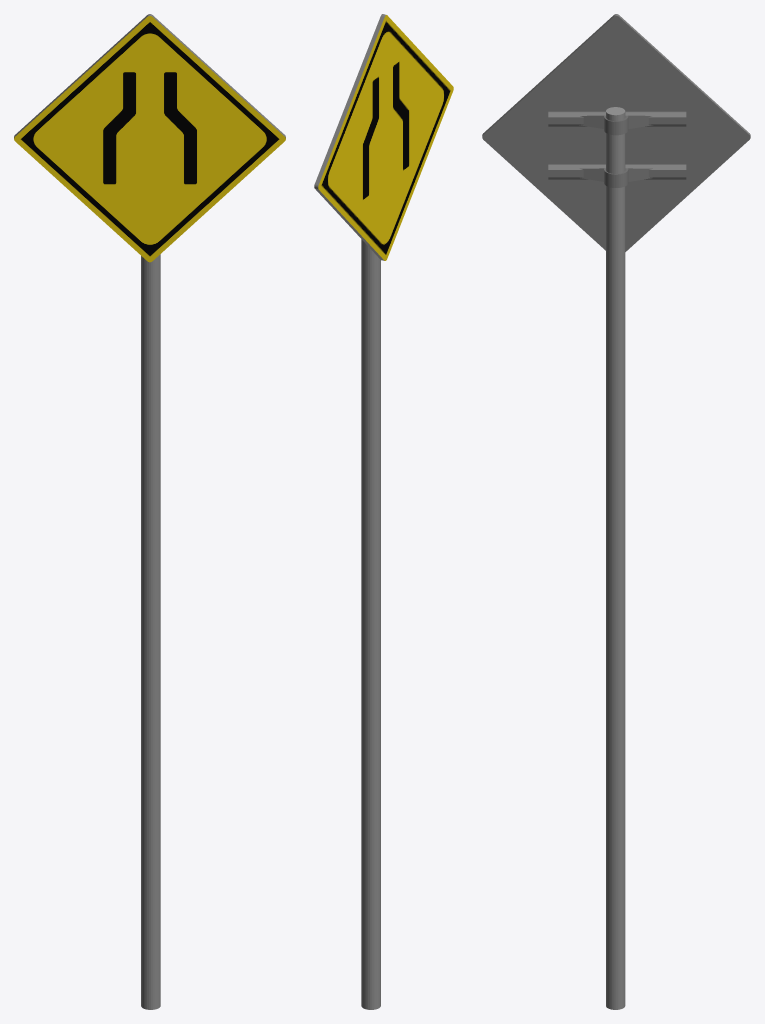
The picture shows the model from 3 angles, left to right: view 1: azimuth 90°, elevation 25°; view 2: azimuth 150°, elevation 25°; view 3: azimuth 270°, elevation 25°; orthographic projection.
Parts seen in each view (by area): view 1: 007, Prop; view 2: 007, Prop; view 3: 007, Prop.
Part boxes in pixels (bbox=[...]): 007: bbox=[14, 14, 285, 262]; Prop: bbox=[141, 254, 160, 1009]; 007: bbox=[314, 14, 453, 260]; Prop: bbox=[361, 239, 380, 1009]; 007: bbox=[482, 14, 750, 251]; Prop: bbox=[548, 107, 686, 1009].
Bounding box in the file's own units: 6.76 × 259 × 63.95.
